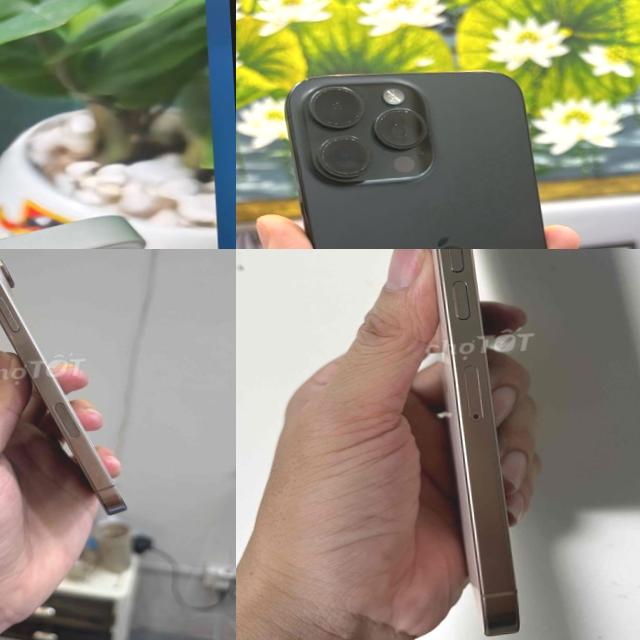scratch: (308, 78, 438, 192)
